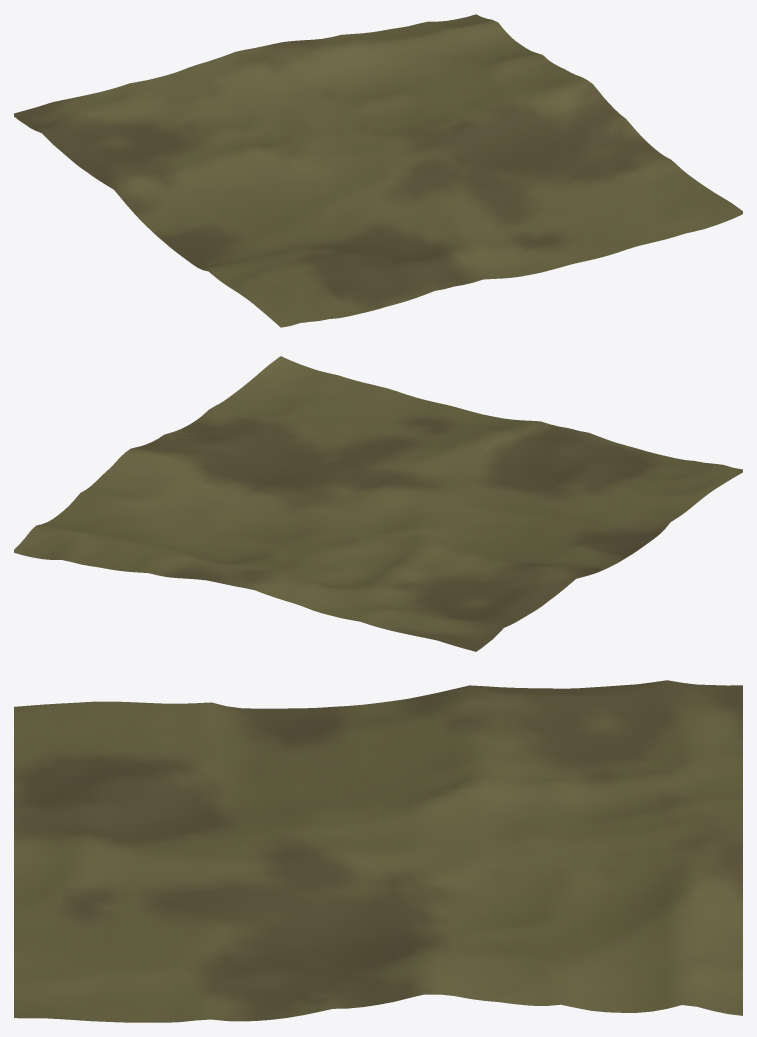
Rendered from land_m_02_01.glb.
3 views of the same model, one above another, from view 1: azimuth 30°, elevation 25°; view 2: azimuth 150°, elevation 25°; view 3: azimuth 270°, elevation 25° (orthographic). The views are drawn at different scales.
Parts seen in each view (by area): view 1: land_m_02_01; view 2: land_m_02_01; view 3: land_m_02_01.
Part boxes in pixels (x1,y1,x2,y2): land_m_02_01: [14, 14, 742, 327]; land_m_02_01: [14, 356, 742, 651]; land_m_02_01: [14, 680, 742, 1022].
Bounding box in the file's own units: 960 × 69.52 × 960.
